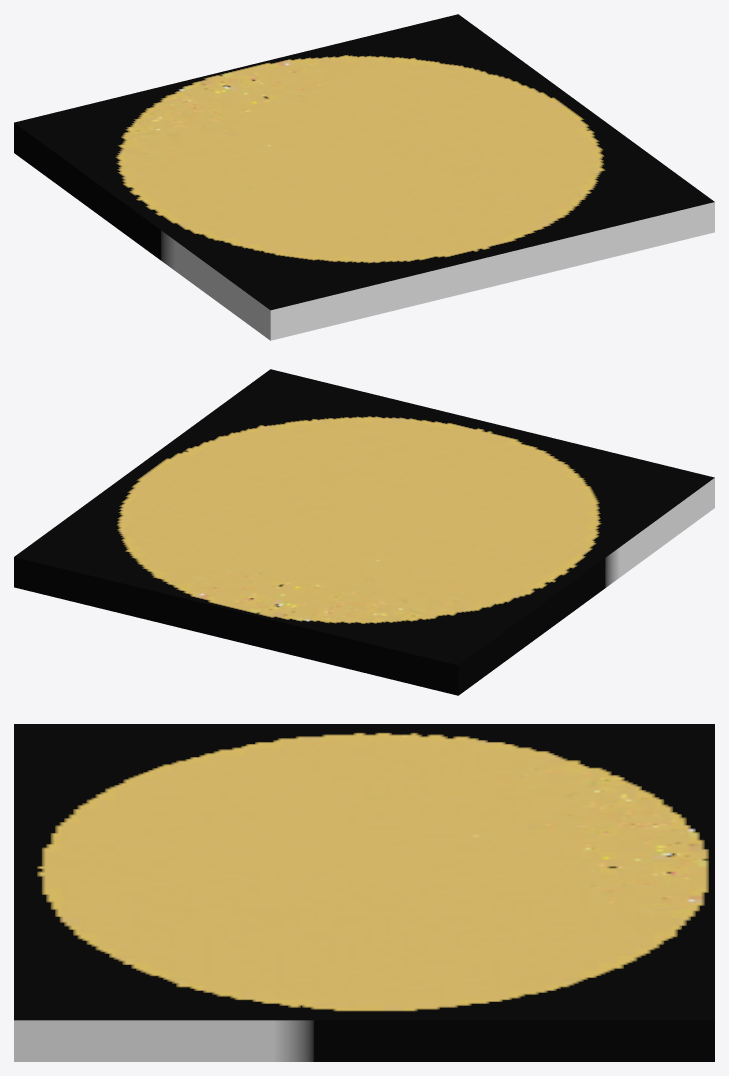
The model's file is CharSkyKid_Prop_MoonlightMural_Moon.glb.
3 views of the same model, one above another, from view 1: azimuth 30°, elevation 25°; view 2: azimuth 150°, elevation 25°; view 3: azimuth 270°, elevation 25° (orthographic). The views are drawn at different scales.
Visible parts, largest first — view 1: CharSkyKid_Prop_MoonlightMural_Moon; view 2: CharSkyKid_Prop_MoonlightMural_Moon; view 3: CharSkyKid_Prop_MoonlightMural_Moon.
Part boxes in pixels (box(x1,y1,x2,y2)): CharSkyKid_Prop_MoonlightMural_Moon: box(14, 14, 714, 340); CharSkyKid_Prop_MoonlightMural_Moon: box(14, 369, 714, 695); CharSkyKid_Prop_MoonlightMural_Moon: box(14, 724, 714, 1061).
Bounding box in the file's own units: 1 × 0.0654 × 1.
1 material, 1 textured.
